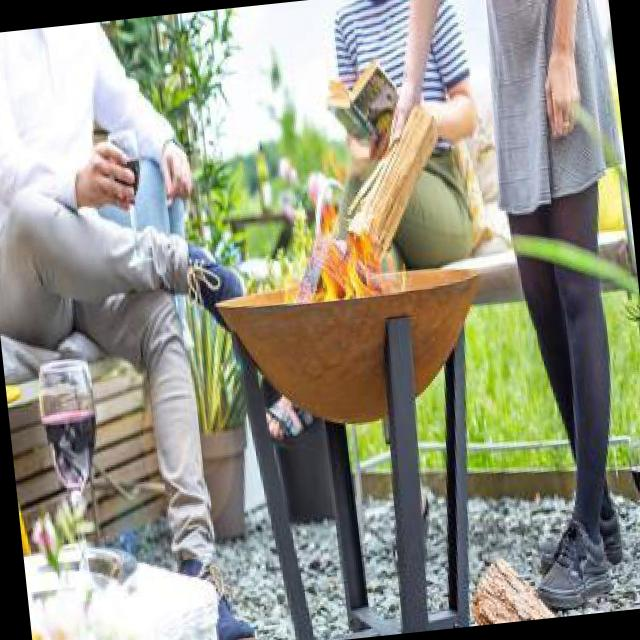Fire: (270, 202, 386, 309)
